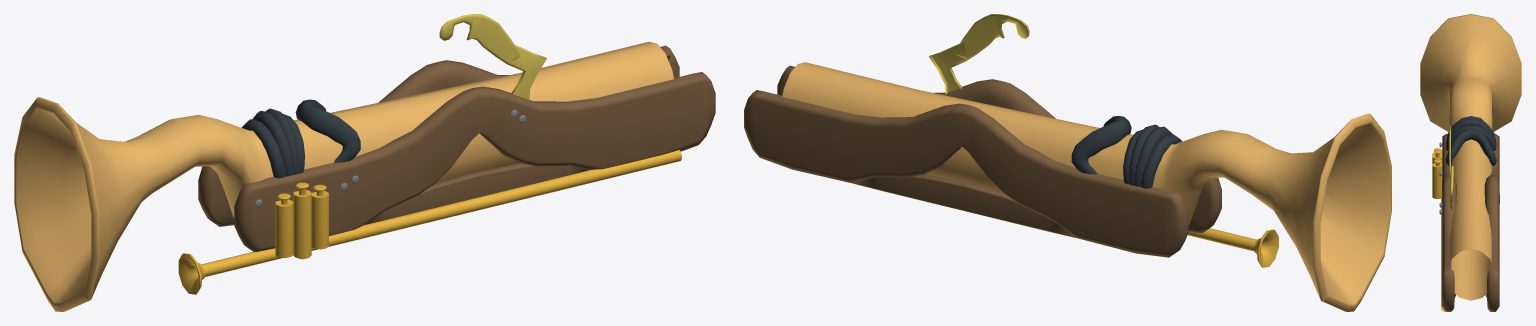
Rendered from Blunderclone.obj.
3 views of the same model, side by side, from view 1: azimuth 30°, elevation 25°; view 2: azimuth 150°, elevation 25°; view 3: azimuth 270°, elevation 25° (orthographic). The views are drawn at different scales.
Parts seen in each view (by area): view 1: pCylinder14, textureEditorIsolateSelectSet pCylinder14; view 2: pCylinder14, textureEditorIsolateSelectSet pCylinder14; view 3: pCylinder14, textureEditorIsolateSelectSet pCylinder14.
Part boxes in pixels (box(x1,y1,x2,y2)): pCylinder14: box(14, 14, 681, 311); textureEditorIsolateSelectSet pCylinder14: box(198, 45, 715, 251); pCylinder14: box(782, 14, 1391, 311); textureEditorIsolateSelectSet pCylinder14: box(744, 65, 1221, 257); pCylinder14: box(1420, 14, 1521, 311); textureEditorIsolateSelectSet pCylinder14: box(1441, 134, 1499, 311).
Size of the model in its own units: 12.77 by 4.04 by 2.83.
